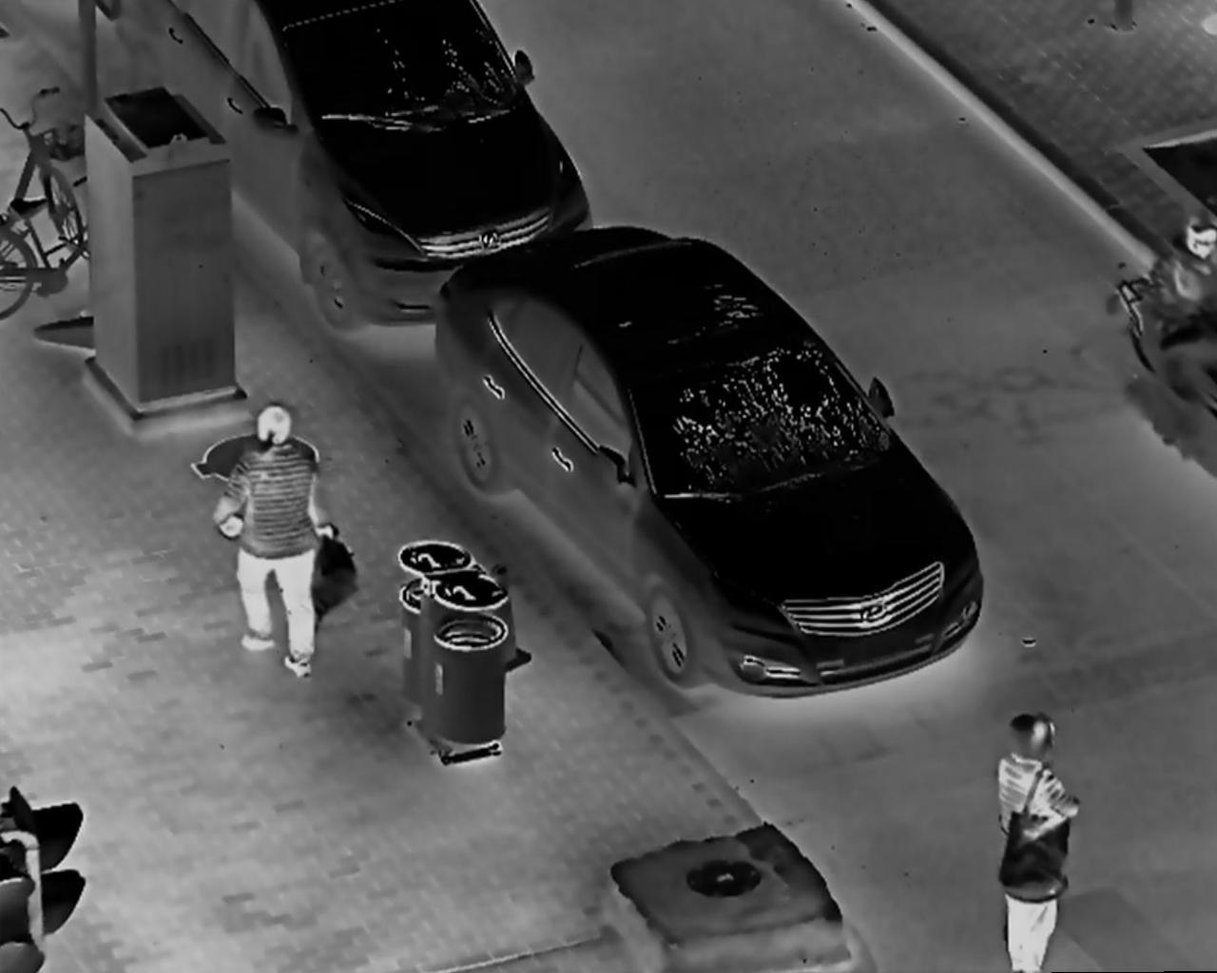person: (211, 404, 325, 685), (987, 709, 1087, 973), (1154, 204, 1217, 415)
